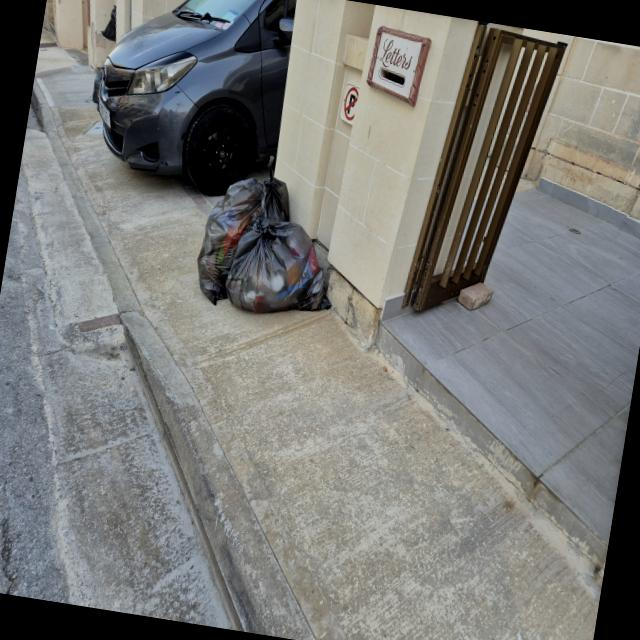black_bag: (192, 166, 296, 320), (233, 210, 353, 326)
